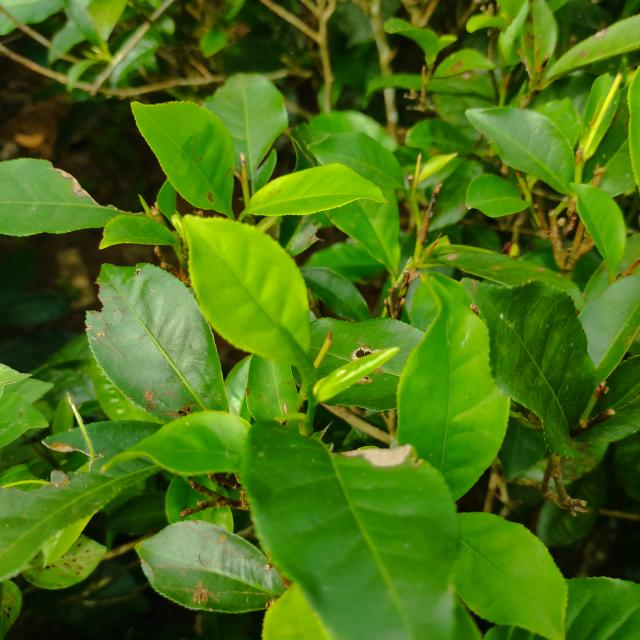unopened_leaf: (256, 303, 324, 402), (134, 189, 178, 235)
